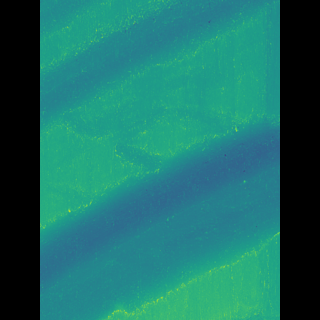Loch: (69, 114, 250, 320), (69, 0, 245, 136)
